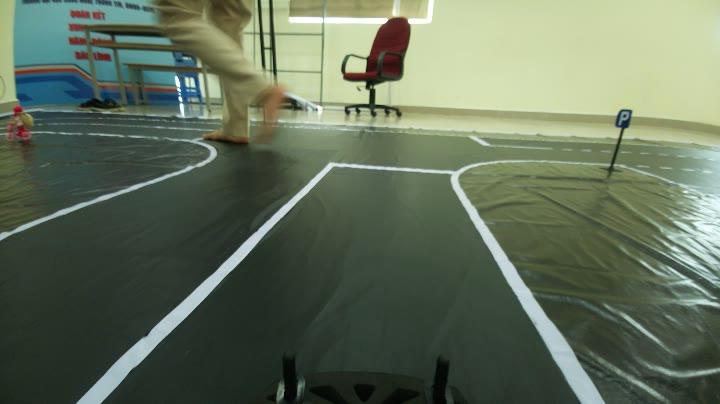parking: (612, 105, 638, 128)
